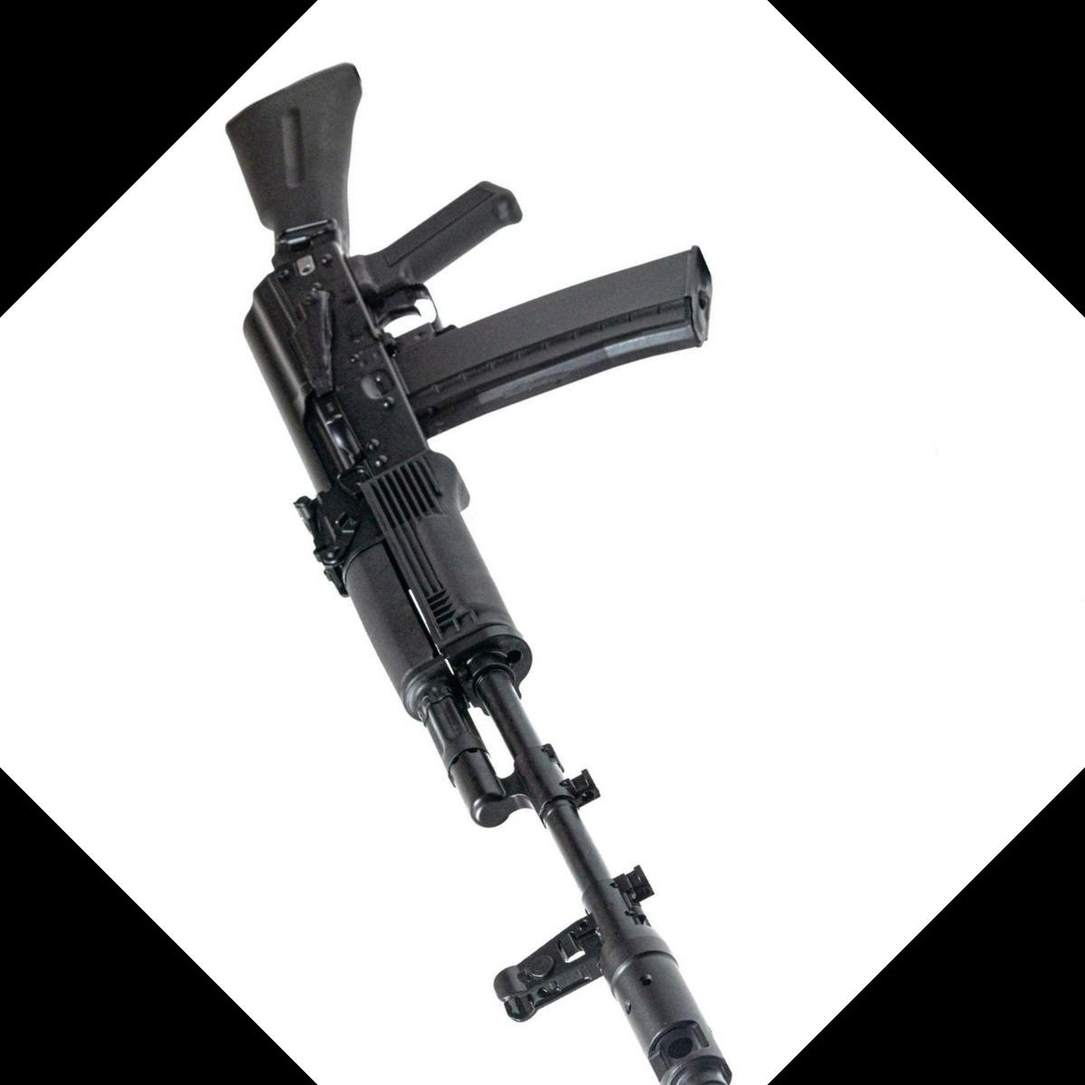larga: (227, 57, 732, 1085)
